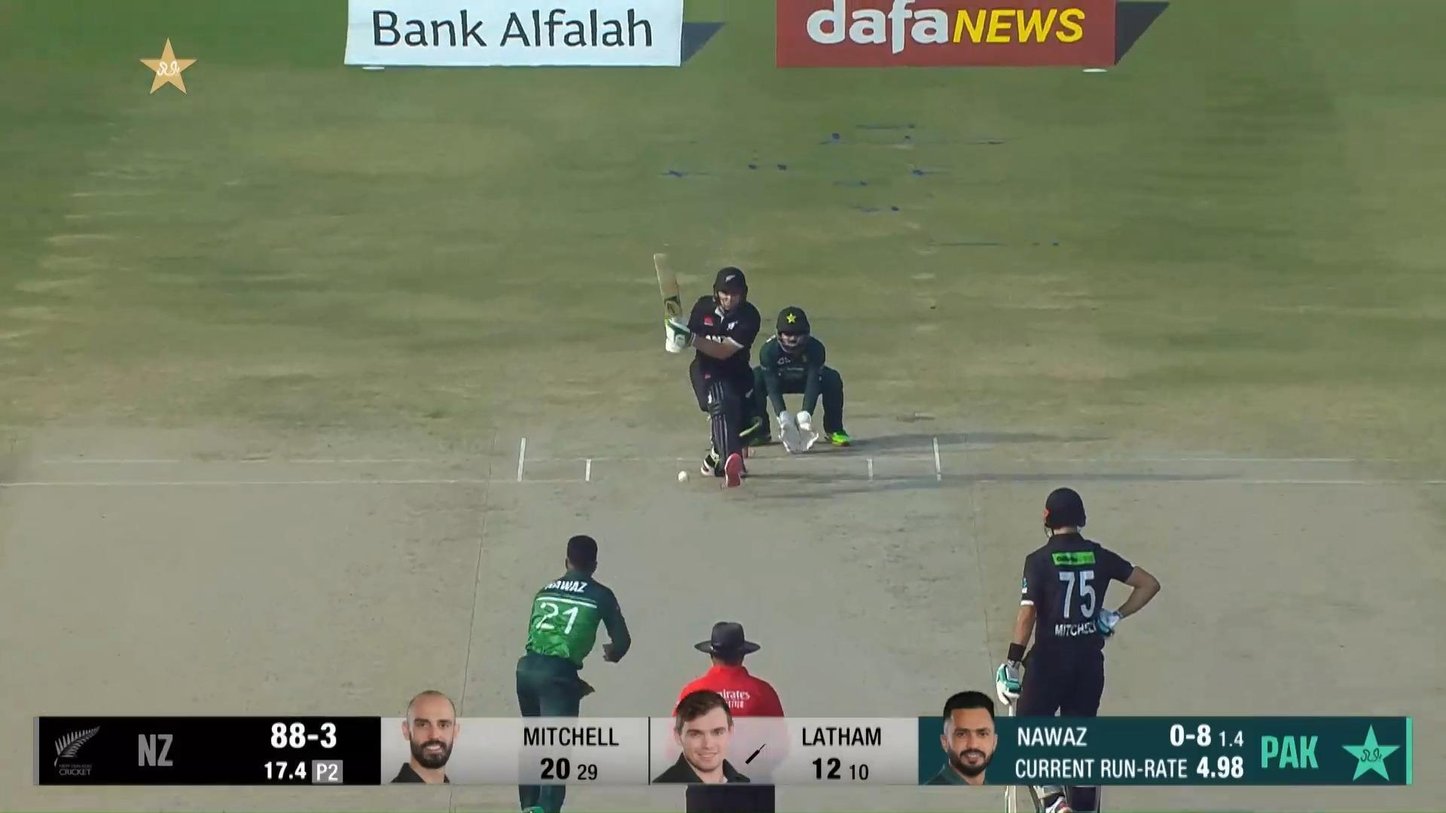BM 1: (650, 249, 770, 490)
BO: (512, 531, 633, 813)
